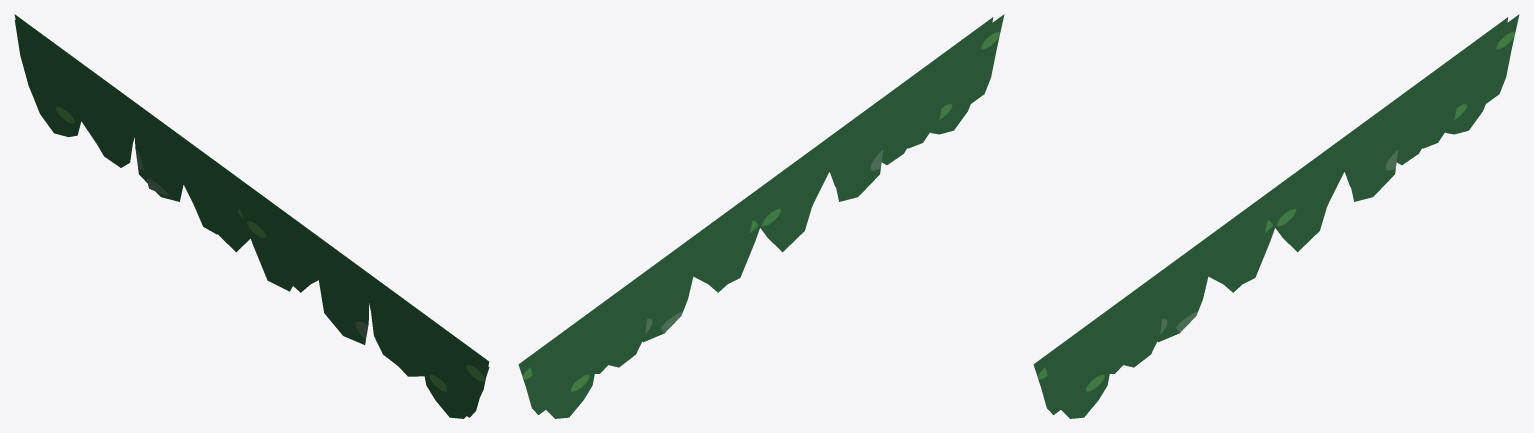
File: Borde.fbx
The picture shows the model from 3 angles, left to right: view 1: azimuth 30°, elevation 25°; view 2: azimuth 150°, elevation 25°; view 3: azimuth 330°, elevation 25°; orthographic projection.
Visible parts, largest first — view 1: Plane.013, Plane.012; view 2: Plane.013, Plane.012; view 3: Plane.012, Plane.013.
Boxes of the visible parts, x1,y1,x2,y2 form: Plane.013: [14, 20, 489, 417]; Plane.012: [14, 14, 489, 418]; Plane.013: [529, 14, 1004, 418]; Plane.012: [518, 17, 993, 414]; Plane.012: [1044, 14, 1519, 418]; Plane.013: [1033, 17, 1508, 414].
Bounding box in the file's own units: 4.4 × 64.94 × 666.
1 material, 1 textured.
